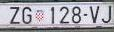-: (84, 12, 88, 17)
1: (50, 6, 56, 25)
2: (59, 7, 70, 25)
8: (72, 7, 81, 24)
J: (101, 5, 112, 23)
V: (90, 5, 100, 24)
Z: (9, 6, 21, 25), (22, 7, 32, 25)
